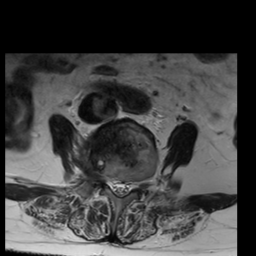CCS_stenosis: (117, 173, 124, 203)
LFS_normal: (133, 169, 141, 198)
LLS_normal: (124, 172, 133, 201)
RFS_normal: (100, 164, 108, 191)
RLS_normal: (108, 170, 117, 198)
